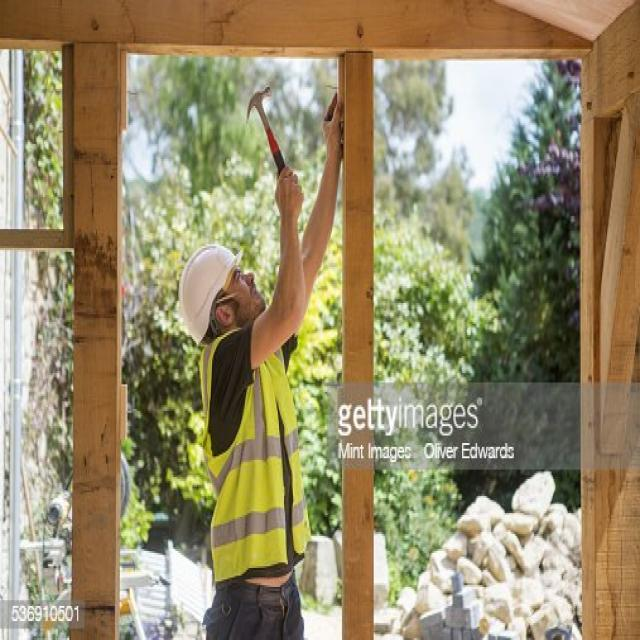Reflective-Jacket: (197, 314, 314, 589)
Safety-Helmet: (175, 231, 245, 348)
